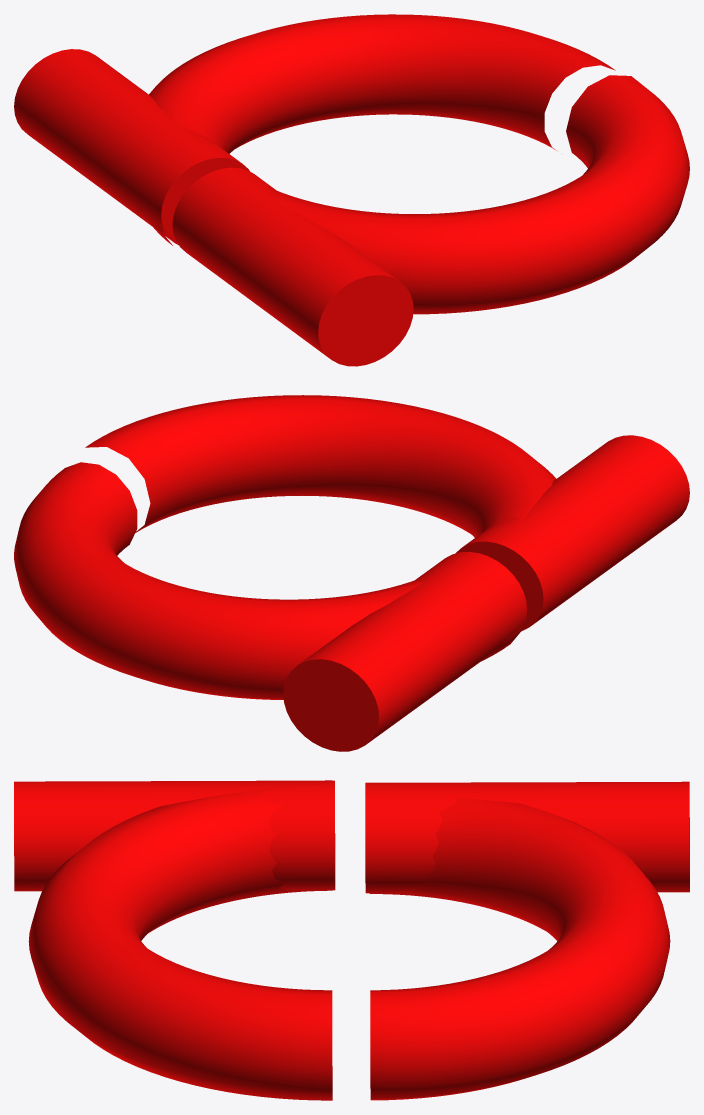
Rendered from exp.gltf.
The picture shows the model from 3 angles, top to bottom: view 1: azimuth 30°, elevation 25°; view 2: azimuth 150°, elevation 25°; view 3: azimuth 270°, elevation 25°; orthographic projection. The views are drawn at different scales.
Visible parts, largest first — view 1: Torus2, Torus, Cylinder2, Cylinder; view 2: Torus2, Torus, Cylinder, Cylinder2; view 3: Torus2, Torus, Cylinder, Cylinder2.
Part boxes in pixels (box(x1,y1,x2,y2)): Torus2: box(197, 75, 689, 314); Torus: box(148, 14, 615, 245); Cylinder2: box(172, 167, 413, 366); Cylinder: box(14, 49, 249, 245); Torus2: box(85, 395, 556, 554); Torus: box(14, 462, 522, 699); Cylinder: box(283, 552, 527, 751); Cylinder2: box(455, 435, 689, 631); Torus2: box(28, 780, 332, 1100); Torus: box(369, 797, 670, 1100); Cylinder: box(365, 781, 689, 893); Cylinder2: box(14, 780, 335, 891).
Size of what is drawn, in the model's own units: 140 by 26.17 by 156.
